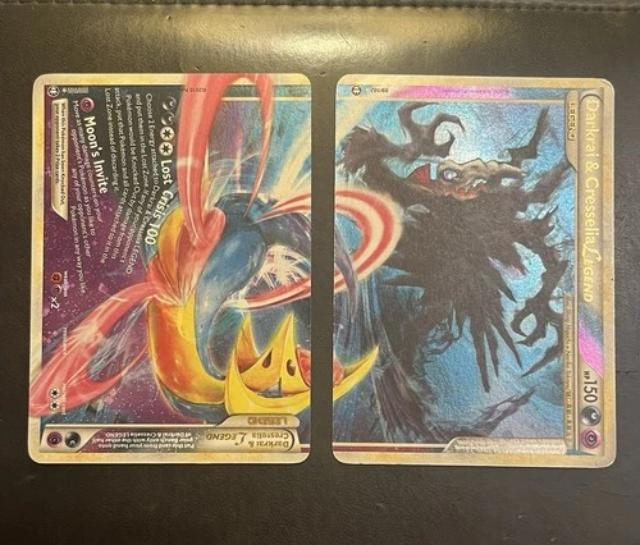Card: (328, 70, 620, 472), (24, 70, 316, 467)
Name: (579, 95, 605, 309), (200, 427, 294, 453)
